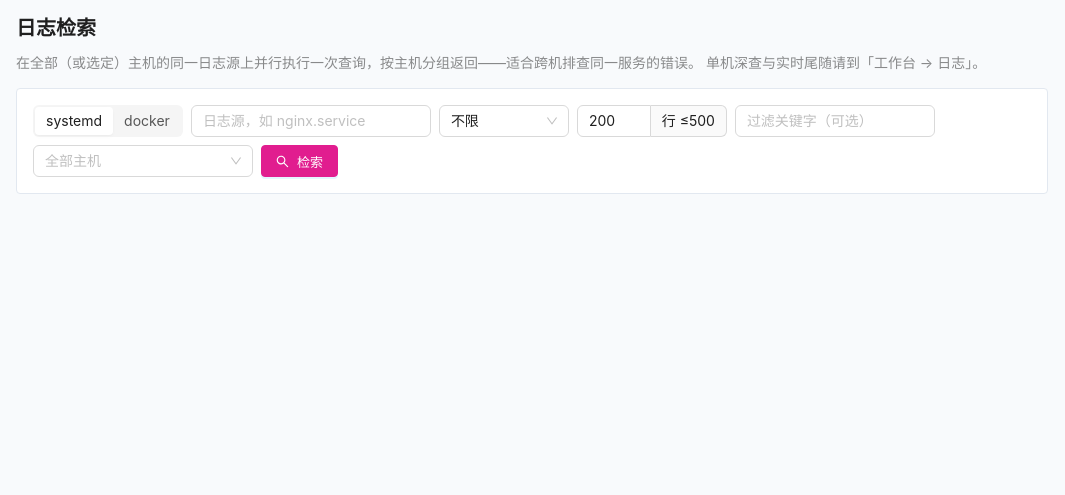
Test: LogSearch › 防御分支：capabilities 缺失过滤、hostname 空、ok 行无 lines、失败行无 error
The width and height of the screenshot is (1065, 495).
Expected: the heading "日志检索" is shown, [16,16,96,40]
主机下拉：无 logs 能力被过滤（capabilities || [] 不炸）；hostname 空显示 id
Press the mouse on the element showing "全部主机" at (143, 161), box [33,145,253,177]
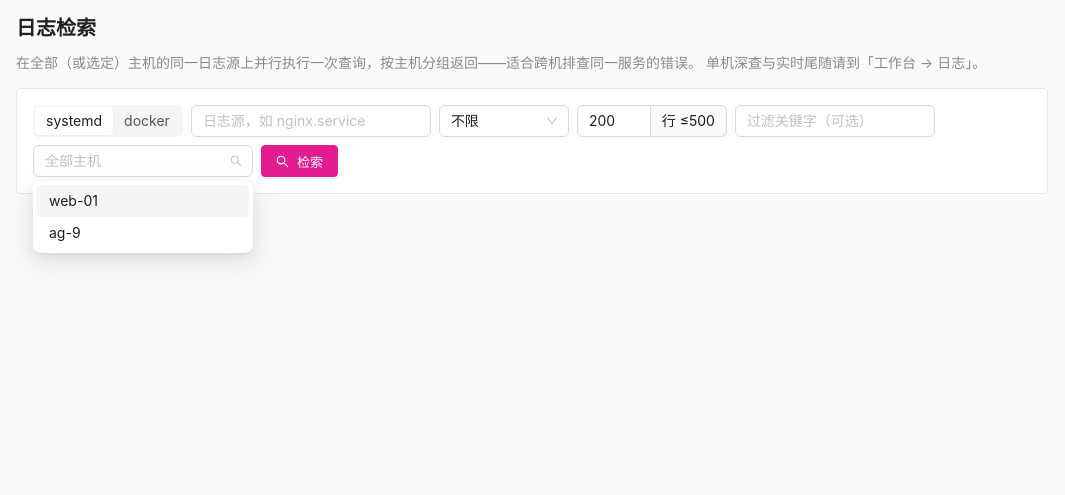
Type "nginx.service" into the field with placeholder "日志源，如 nginx.service". click: (303, 121)
box: [203,110,403,132]
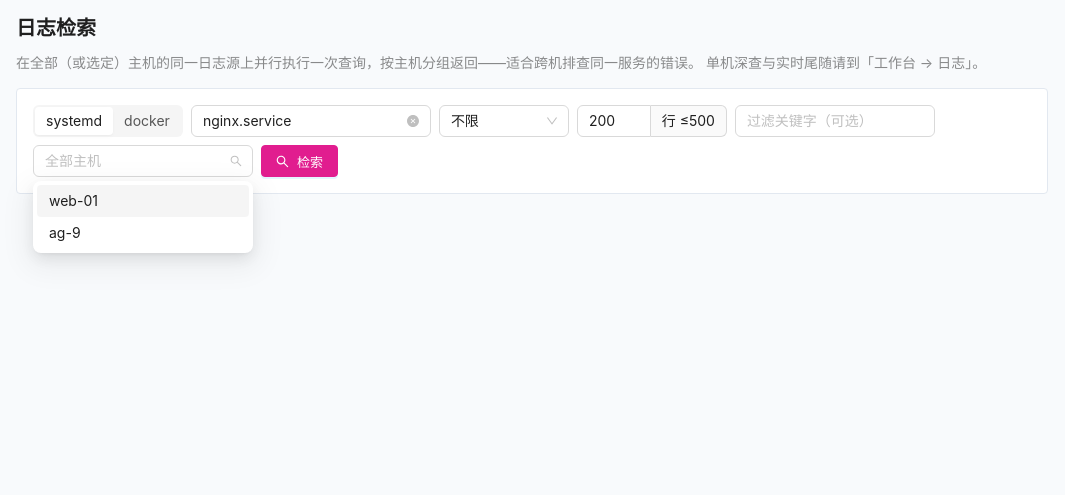
Click the button "检索". click: click(300, 161)
box: [261,145,338,177]
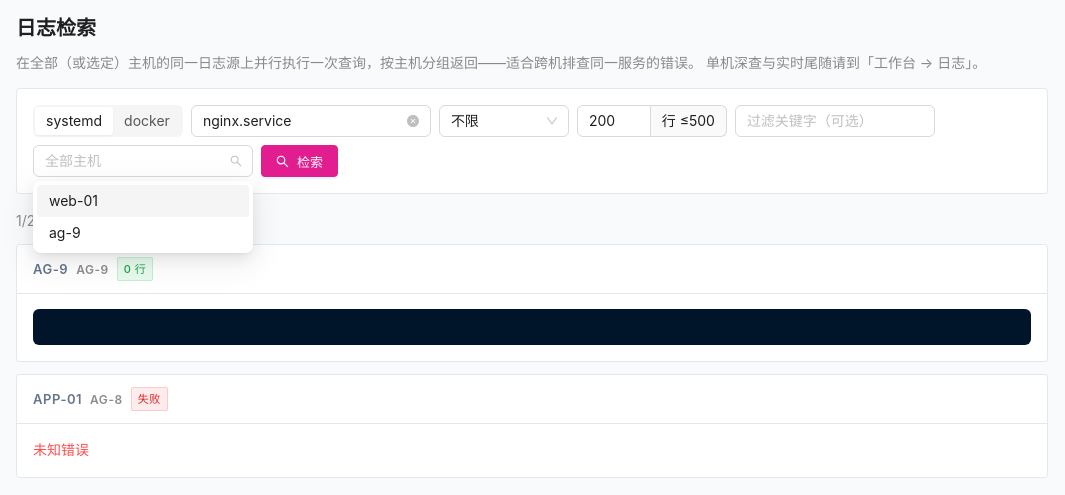
Expected: the text "0 行" is shown, [117,257,153,281]
Expected: the text "1/2 台返回，共 0 行" is shown, [16,212,140,229]
Expected: the text "未知错误" is shown, [33,441,89,458]
